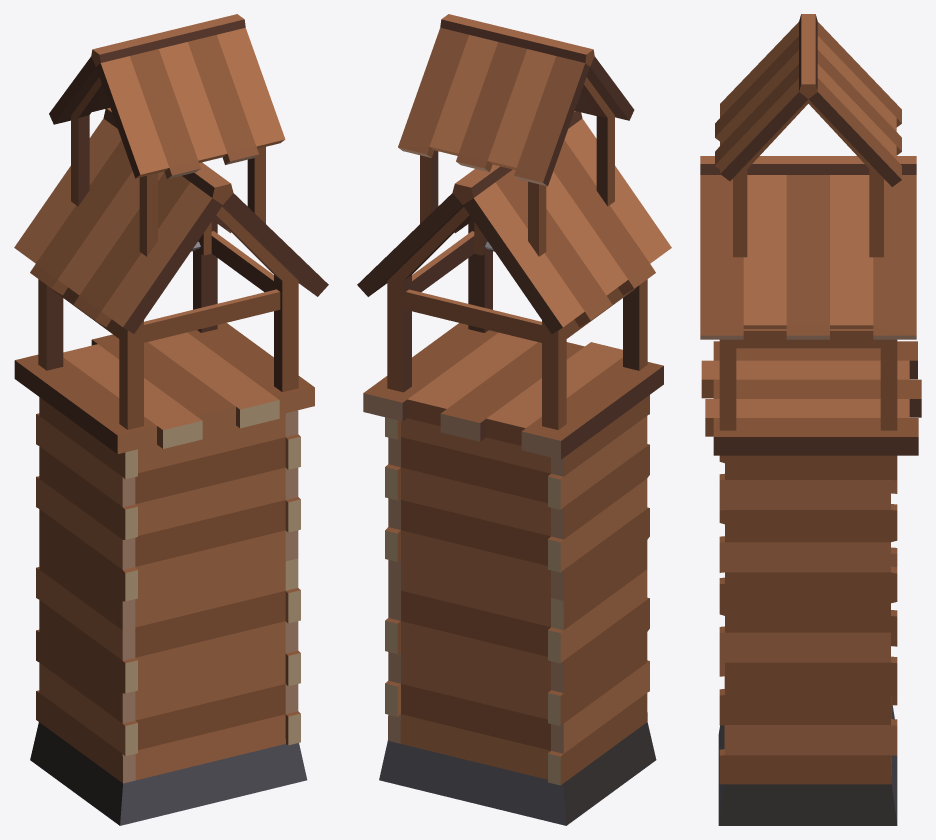
The model's file is TB_Bd_BellTower.FBX.
3 renders of one model, left to right at view 1: azimuth 30°, elevation 25°; view 2: azimuth 150°, elevation 25°; view 3: azimuth 270°, elevation 25°, orthographic.
Visible parts, largest first — view 1: TB_Bd_BellTower; view 2: TB_Bd_BellTower; view 3: TB_Bd_BellTower.
Part boxes in pixels (<box>): TB_Bd_BellTower: <box>14,14,328,825</box>; TB_Bd_BellTower: <box>357,14,671,825</box>; TB_Bd_BellTower: <box>700,14,921,825</box>.
Size of the model in its own units: 3.08 by 10.21 by 2.8.
